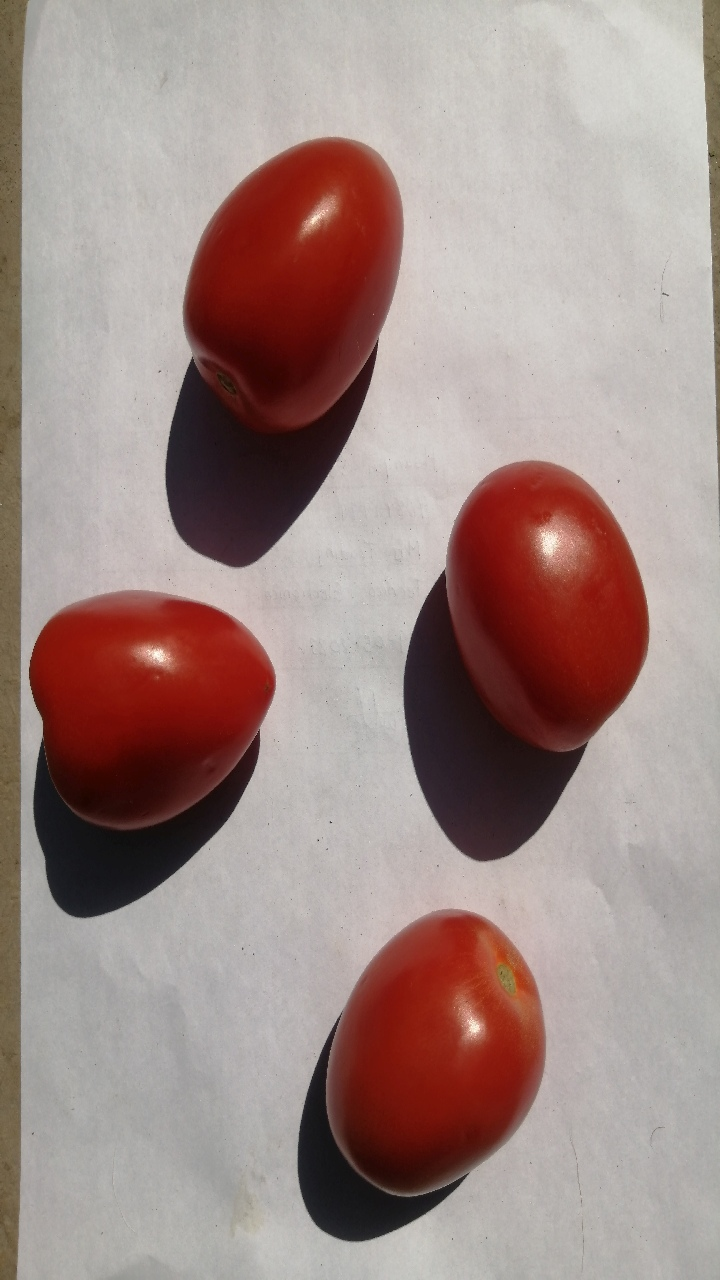tomateRojo: (294, 897, 571, 1217), (17, 552, 298, 848), (169, 115, 412, 437), (440, 443, 658, 762)
